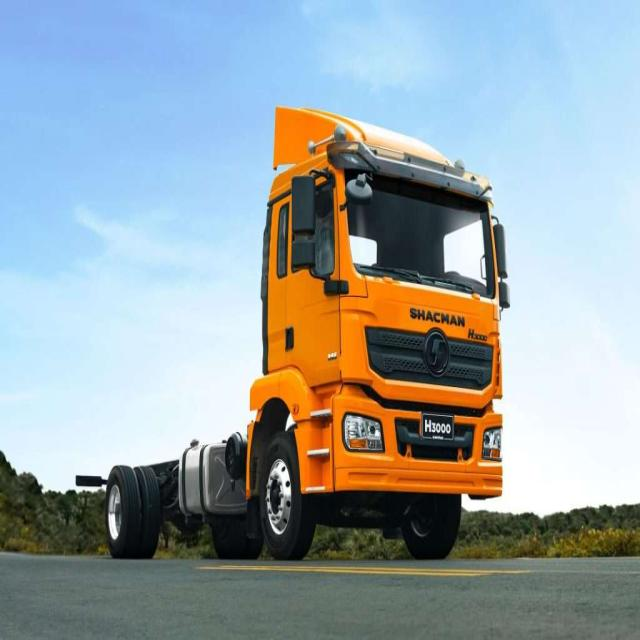TRUCK: (72, 106, 508, 568)
